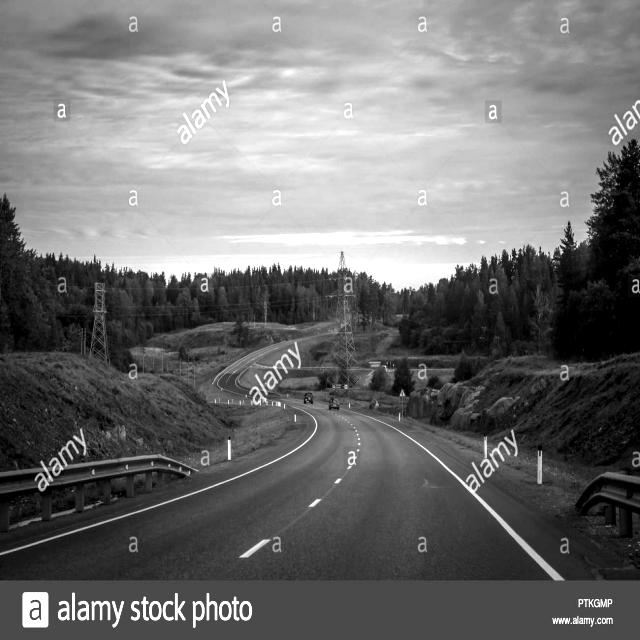cleat: (152, 237, 640, 640)
